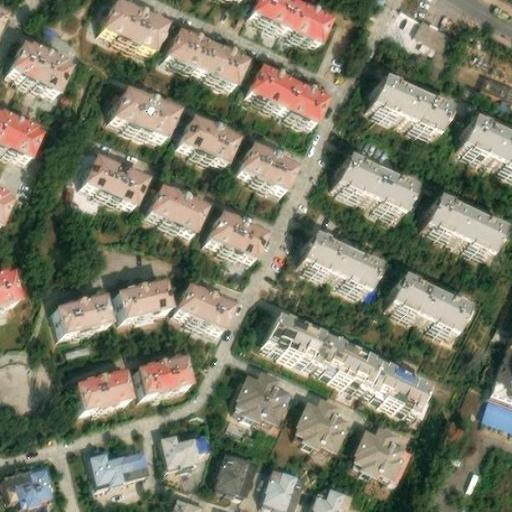building: (260, 309, 428, 413), (243, 62, 326, 123), (161, 24, 244, 85), (298, 229, 379, 290), (333, 149, 413, 210), (370, 73, 452, 132), (390, 273, 467, 332), (425, 193, 502, 252), (354, 419, 413, 480), (109, 86, 173, 138), (201, 207, 265, 259), (6, 38, 70, 90), (141, 182, 205, 234), (173, 112, 237, 164), (80, 152, 143, 204), (234, 138, 297, 190), (230, 373, 288, 429), (173, 282, 234, 332), (287, 406, 339, 462), (460, 112, 512, 165), (110, 276, 170, 319), (51, 293, 110, 336), (2, 458, 58, 502), (70, 369, 129, 410), (132, 354, 188, 395), (90, 444, 150, 482), (261, 462, 304, 510), (0, 354, 31, 415), (215, 448, 257, 492), (160, 428, 210, 461), (311, 481, 352, 512), (481, 392, 512, 429), (492, 337, 512, 393), (0, 183, 15, 224), (171, 492, 199, 512), (0, 269, 13, 304)
